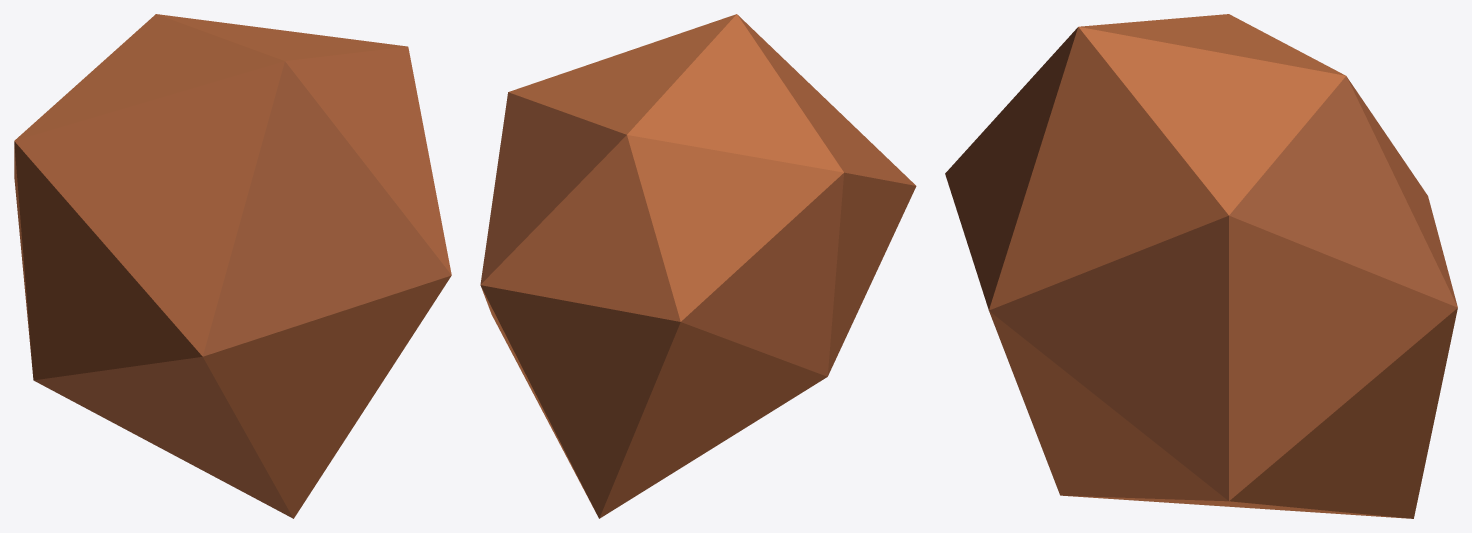
File: SM_Rock_2.obj
The picture shows the model from 3 angles, left to right: view 1: azimuth 30°, elevation 25°; view 2: azimuth 150°, elevation 25°; view 3: azimuth 270°, elevation 25°; orthographic projection. The views are drawn at different scales.
Parts seen in each view (by area): view 1: SM_Rock_2; view 2: SM_Rock_2; view 3: SM_Rock_2.
Boxes of the visible parts, box(x1,y1,x2,y2) form: SM_Rock_2: box(14, 14, 451, 518); SM_Rock_2: box(480, 14, 916, 518); SM_Rock_2: box(945, 14, 1457, 518).
Bounding box in the file's own units: 1.67 × 1.83 × 1.73.
Materials: 1 (1 with a texture image).
